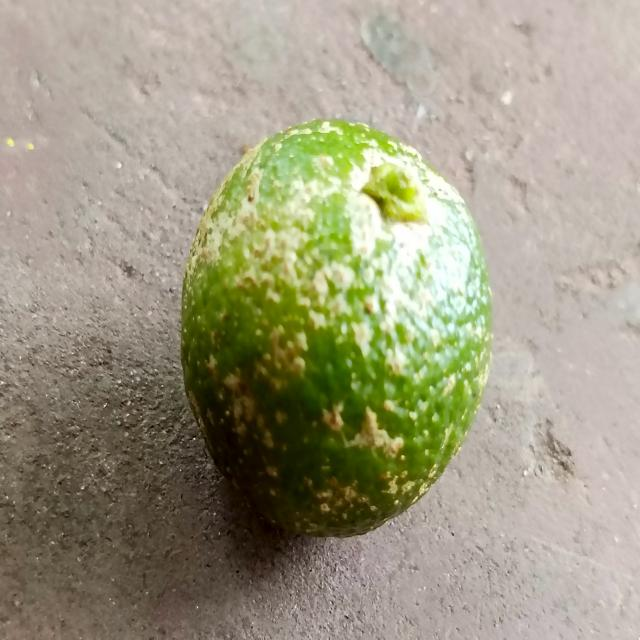scab: (171, 112, 501, 547)
